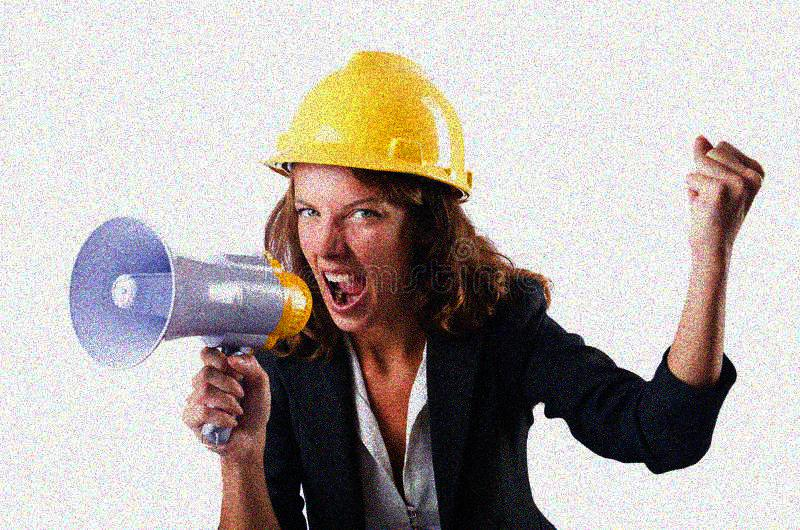helmet: (263, 47, 472, 333)
